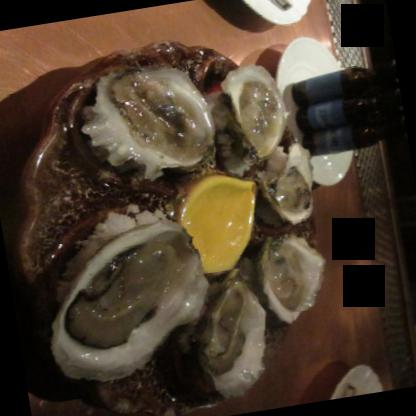oyster: (22, 207, 223, 389), (75, 52, 223, 178), (179, 270, 278, 402), (212, 60, 294, 172), (253, 227, 334, 328), (248, 142, 319, 226)
